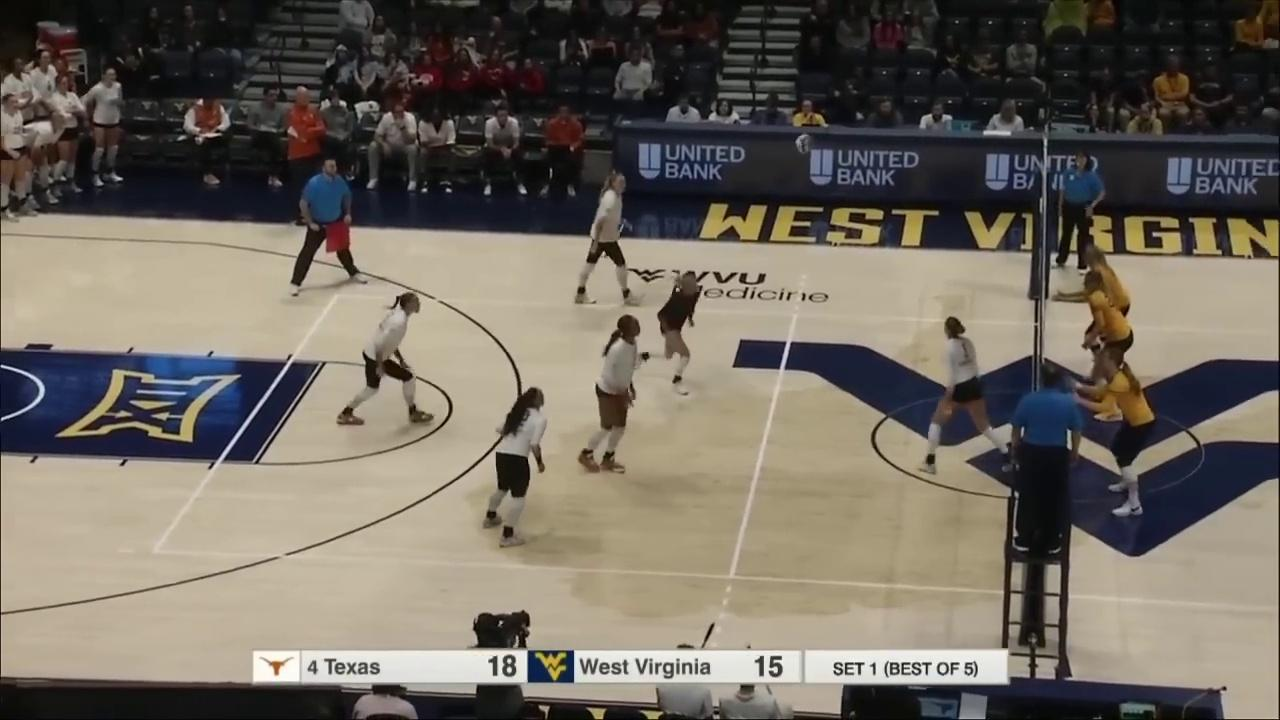player: (919, 317, 1021, 472), (1069, 352, 1154, 518), (336, 292, 431, 428), (577, 314, 651, 470), (483, 387, 546, 549), (1055, 247, 1131, 379), (576, 169, 641, 306), (633, 271, 699, 395), (1082, 273, 1132, 419)
refree: (1011, 364, 1081, 555), (286, 158, 371, 295), (1056, 152, 1107, 268)
